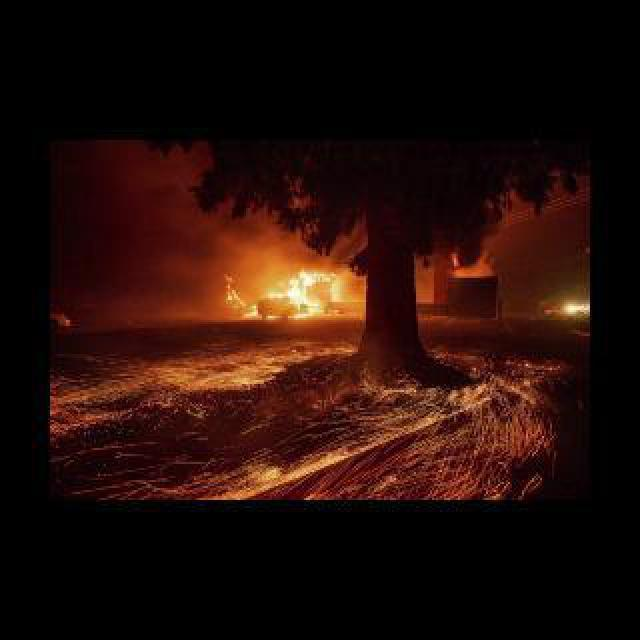Fire: (290, 270, 322, 314), (220, 276, 246, 306), (266, 292, 284, 296), (250, 304, 256, 314)
